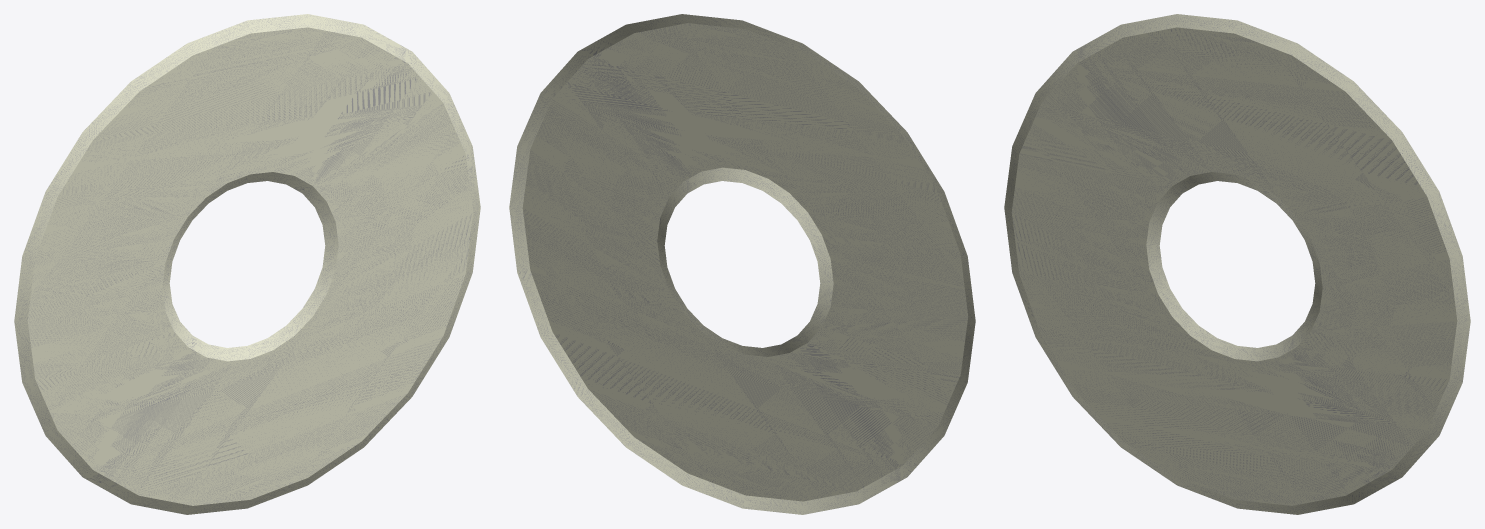
Rendered from original-8.obj.
The picture shows the model from 3 angles, left to right: view 1: azimuth 30°, elevation 25°; view 2: azimuth 150°, elevation 25°; view 3: azimuth 330°, elevation 25°; orthographic projection.
Visible parts, largest first — view 1: 3dw.7bdffa69c49eb1d7bf653fdedcac4c5b#4/Model/mesh9/mesh9-geometr; view 2: 3dw.7bdffa69c49eb1d7bf653fdedcac4c5b#4/Model/mesh9/mesh9-geometr; view 3: 3dw.7bdffa69c49eb1d7bf653fdedcac4c5b#4/Model/mesh9/mesh9-geometr.
Boxes of the visible parts, left/top/right/bottom form: 3dw.7bdffa69c49eb1d7bf653fdedcac4c5b#4/Model/mesh9/mesh9-geometr: left=14, top=14, right=480, bottom=514; 3dw.7bdffa69c49eb1d7bf653fdedcac4c5b#4/Model/mesh9/mesh9-geometr: left=509, top=14, right=975, bottom=514; 3dw.7bdffa69c49eb1d7bf653fdedcac4c5b#4/Model/mesh9/mesh9-geometr: left=1004, top=14, right=1470, bottom=514.
Size of the model in its own units: 0.3912 by 0.3912 by 0.00435.
